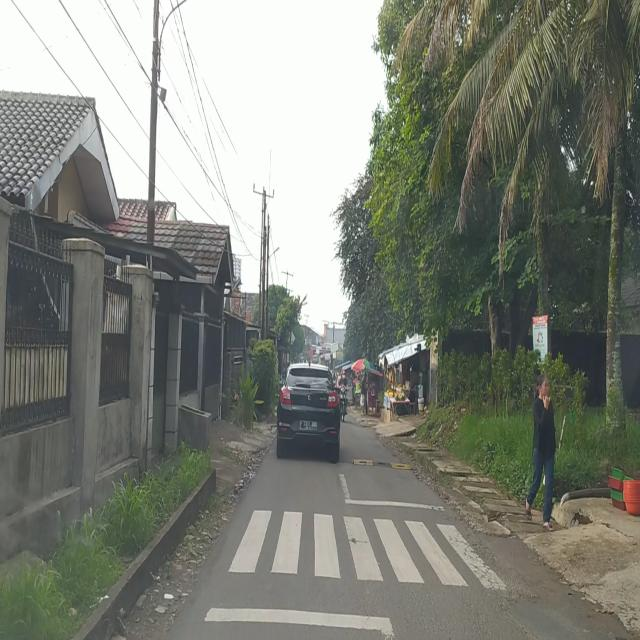Drain Hole: (449, 508, 516, 607)
